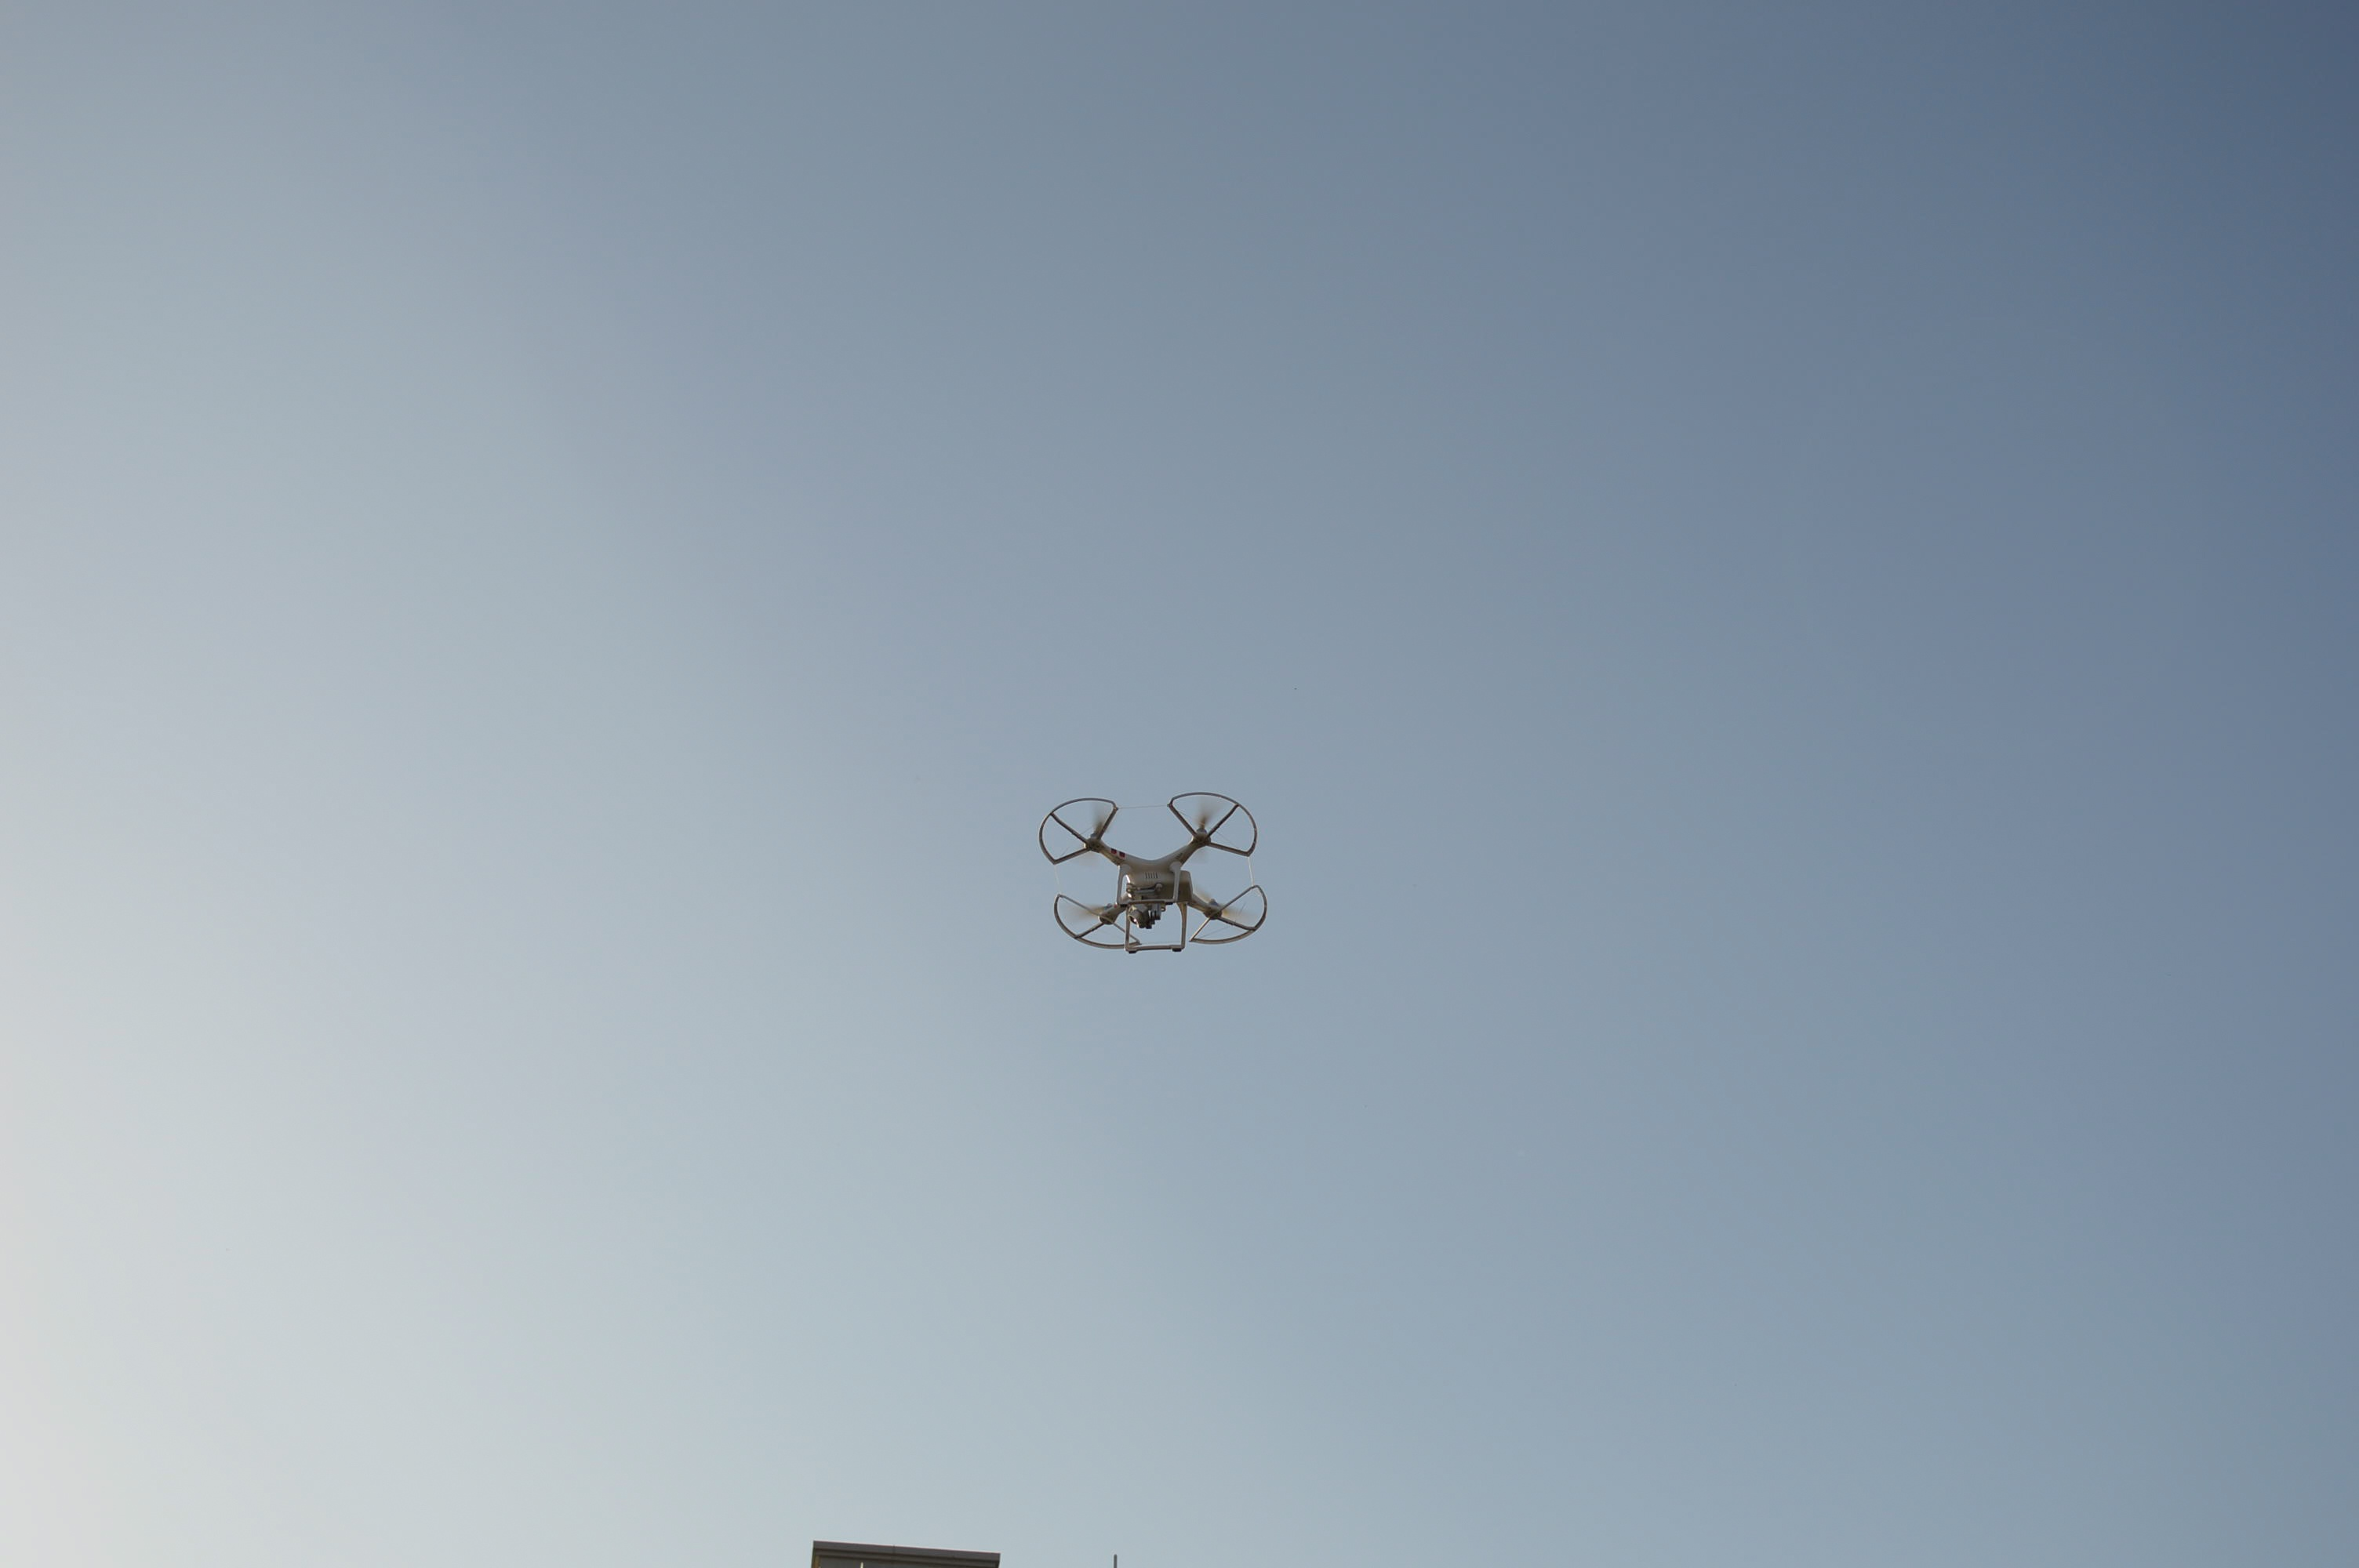DJI: (1031, 789, 1279, 950)
